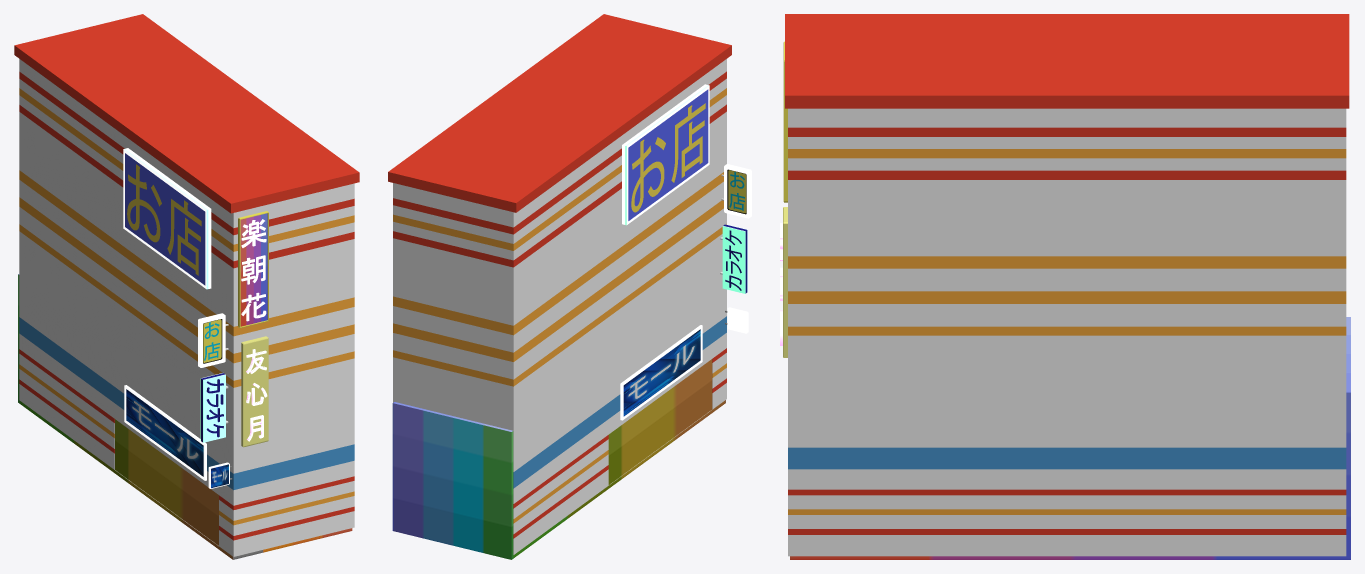
The model's file is rainbow.glb.
The picture shows the model from 3 angles, left to right: view 1: azimuth 30°, elevation 25°; view 2: azimuth 150°, elevation 25°; view 3: azimuth 270°, elevation 25°; orthographic projection. The views are drawn at different scales.
Visible parts, largest first — view 1: Cube.016; view 2: Cube.016; view 3: Cube.016.
Part boxes in pixels (x1,y1,x2,y2): Cube.016: (14, 14, 359, 559); Cube.016: (388, 14, 751, 559); Cube.016: (780, 14, 1350, 559).
Size of the model in its own units: 7.76 by 17.26 by 19.1.
Materials: 9 (3 with a texture image).
